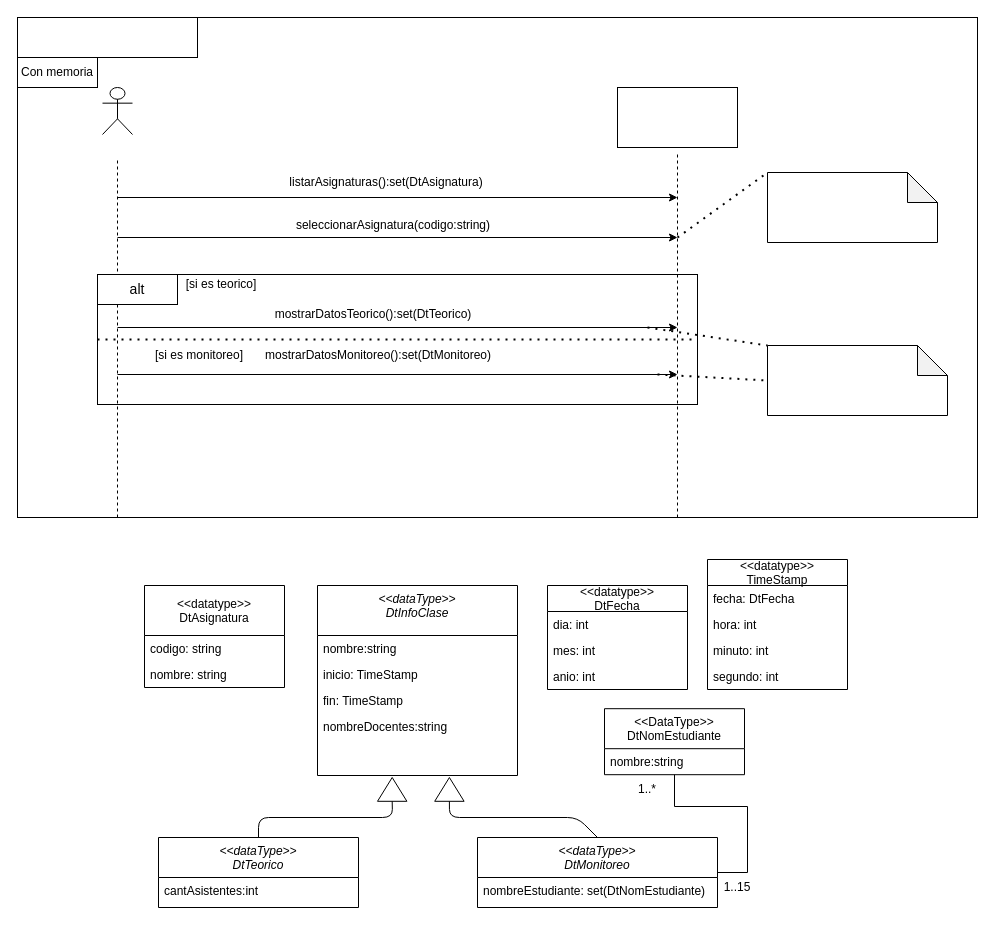
The diagram is 995 pixels wide and 925 high, and some of its shapes have lost their labels. Here are the shapes that lost their labels. From the top down, the centre of each, then its label:
At pixel 107 37: "Listado de Clases".
At pixel 117 110: "Docente".
At pixel 677 117: ":Sistema".
At pixel 852 207: "El sistema recuerda el codigo de la asignatura".
At pixel 857 380: "El sistema libera la memoria asociada a codigo".
